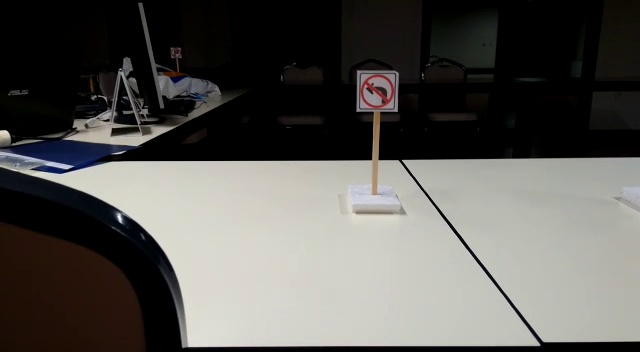sola_donulmez: (352, 69, 401, 111)
